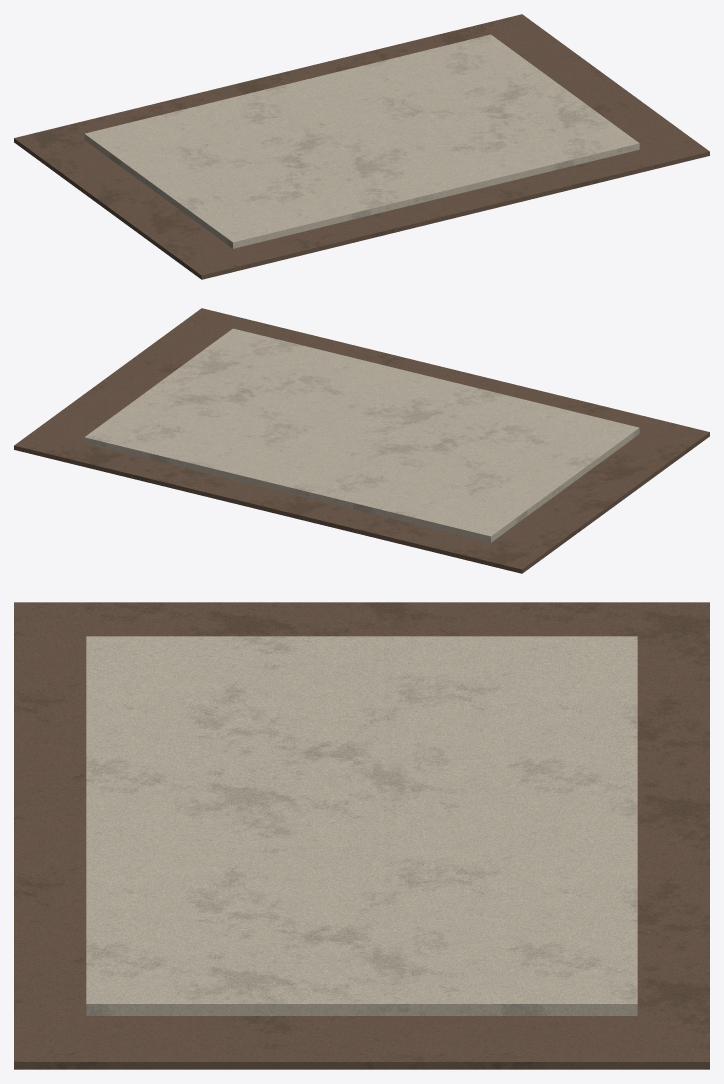
Rendered from fur.glb.
3 views of the same model, one above another, from view 1: azimuth 30°, elevation 25°; view 2: azimuth 150°, elevation 25°; view 3: azimuth 270°, elevation 25° (orthographic). The views are drawn at different scales.
Visible parts, largest first — view 1: fur; view 2: fur; view 3: fur.
Part boxes in pixels (bbox=[...]): fur: bbox=[14, 14, 709, 279]; fur: bbox=[14, 308, 709, 573]; fur: bbox=[14, 602, 709, 1069].
Size of the model in its own units: 1.5 by 0.03 by 0.96.
2 materials, 2 textured.
